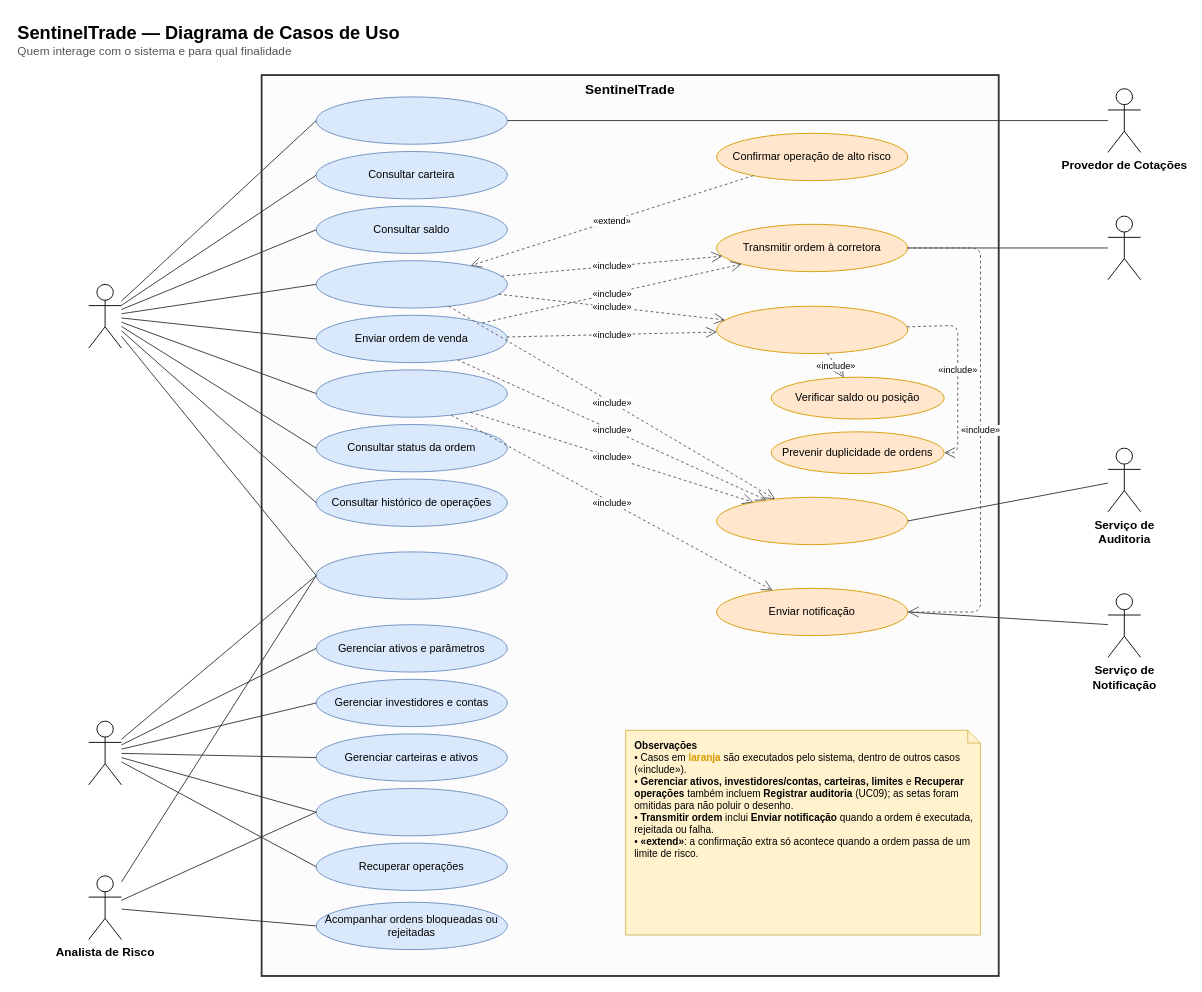
Image size: 1202x992. Some labels were removed from this diagram. The centre of each missing label's shape, as x and y in pixels:
Administrador: the point at 104,752
Autenticar-se com MFA: the point at 411,575
Cancelar ordem: the point at 411,393
Consultar cotação: the point at 411,120
Corretora/Bolsa Simulada: the point at 1124,247
Enviar ordem de compra: the point at 411,284
Gerenciar limites de risco: the point at 411,812
Investidor: the point at 104,315
Registrar auditoria: the point at 812,520
Validar ordem: the point at 812,329
